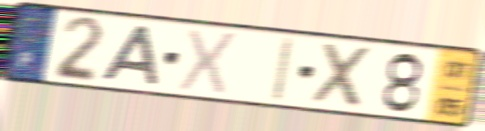2: (52, 13, 106, 85)
8: (382, 51, 424, 114)
A: (97, 23, 162, 89)
I: (269, 36, 297, 105)
X: (310, 40, 377, 111), (175, 26, 241, 98)
